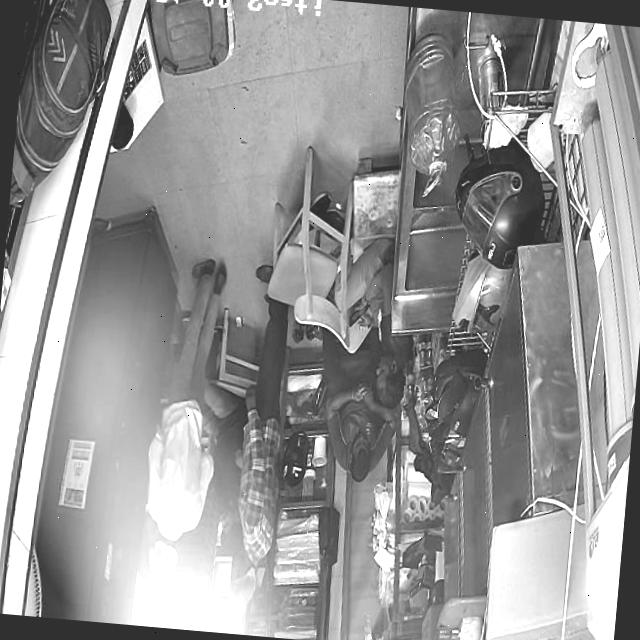helmet: (454, 146, 544, 268)
